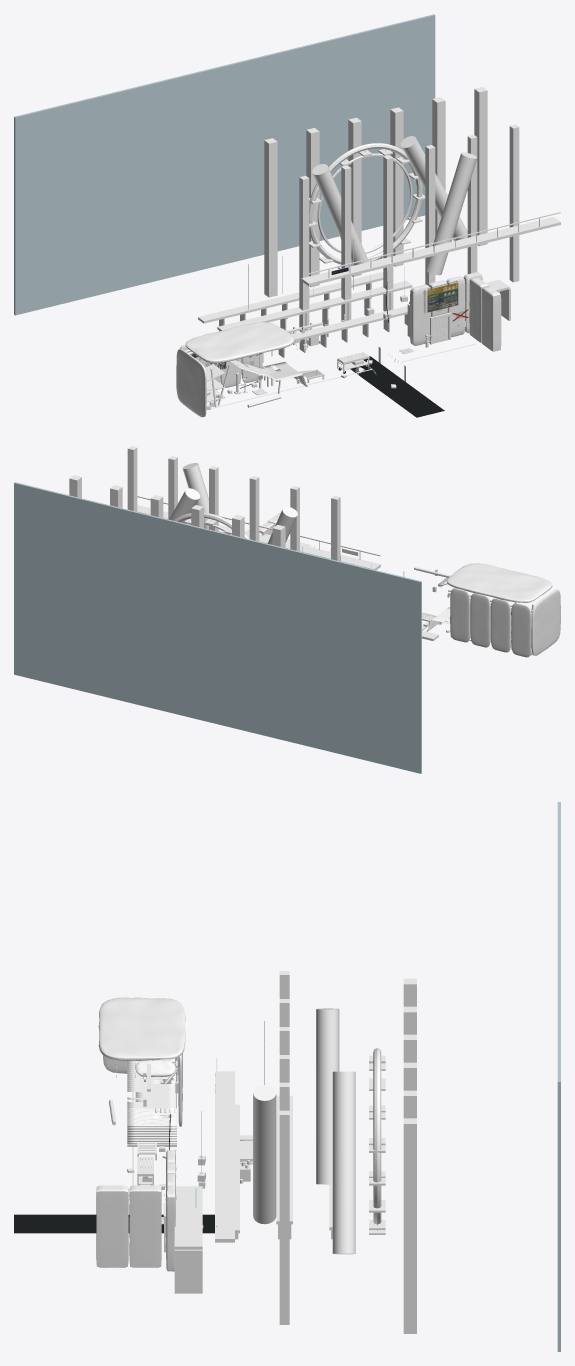
3 views of the same model, one above another, from view 1: azimuth 30°, elevation 25°; view 2: azimuth 150°, elevation 25°; view 3: azimuth 270°, elevation 25° (orthographic). The views are drawn at different scales.
Parts seen in each view (by area): view 1: FarWall, HallMachinery, Hall, Bulkhead, Ceiling, AlcoveWalls, TrenchWater, LoreGradeChart, MECH_Shutter_dl01_shutter, Racking, Passage; view 2: FarWall, HallMachinery, AlcoveWalls, Ceiling; view 3: HallMachinery, Bulkhead, Ceiling, MECH_Shutter_dl01_shutter, Passage, FarWall, Hall, TrenchWater, AlcoveWalls.
Part boxes in pixels (x1,y1,x2,y2): FarWall: (14,14,435,315); HallMachinery: (264,87,560,331); Hall: (198,238,412,362); Bulkhead: (410,272,501,351); Ceiling: (185,322,294,362); AlcoveWalls: (176,344,262,417); TrenchWater: (345,356,444,417); LoreGradeChart: (423,280,458,313); MECH_Shutter_dl01_shutter: (230,359,306,385); Racking: (199,360,230,407); Passage: (407,279,510,337); FarWall: (14,482,421,773); HallMachinery: (69,446,380,569); AlcoveWalls: (450,588,560,657); Ceiling: (438,563,552,602); HallMachinery: (215,971,416,1333); Bulkhead: (96,1150,176,1271); Ceiling: (98,997,185,1077); MECH_Shutter_dl01_shutter: (127,1058,176,1144); Passage: (174,1186,202,1293); FarWall: (557,802,560,1351); Hall: (235,1021,332,1239); TrenchWater: (14,1214,214,1233); AlcoveWalls: (103,1053,182,1126).
Bounding box in the file's own units: 20 × 9.34 × 16.53.
Materials: 44 (11 with a texture image).
